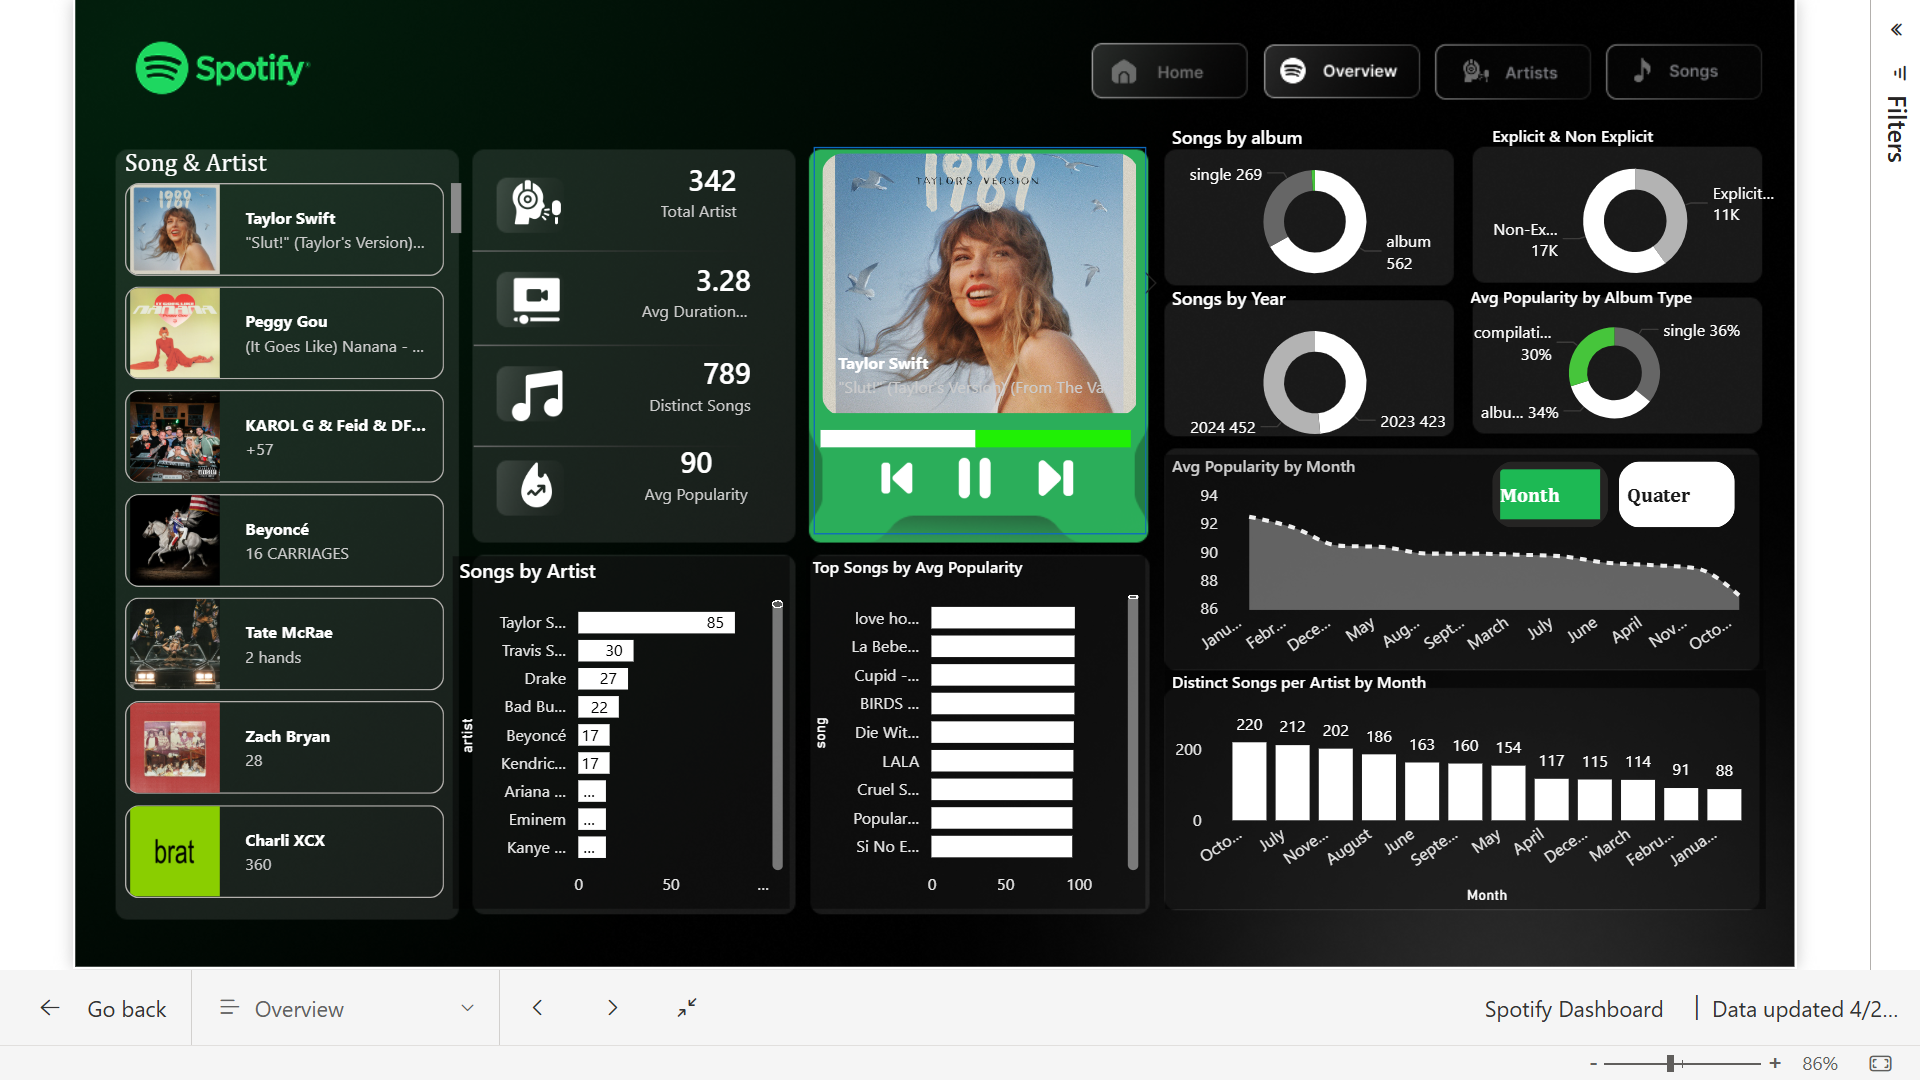

This screenshot's page, from the dashboard's own definition file:
{"tool":"powerbi","page":{"name":"Overview","canvas":[1280,720],"ordinal":1},"visuals":[{"type":"clusteredBarChart","title":"Songs by Artist","fields":{"Category":["Top-50-world.artist"],"Y":["_measure.Distinct Songs"]},"box":[281.9,412.9,250.4,262],"z":0},{"type":"clusteredBarChart","title":"Top Songs by Avg Popularity","fields":{"Category":["Top-50-world.song"],"Y":["Avg(Top-50-world.popularity)"]},"box":[543.9,412.9,252,262],"z":1000},{"type":"areaChart","fields":{"Category":["Top-50-world.Month"],"Y":["_measure.Avg Popularity"]},"box":[810.8,338.3,444.4,159.2],"z":2000},{"type":"advancedSlicerVisual","fields":{"Values":["Slicer_option.Slicer_option"]},"box":[1049.6,338.3,190.7,59.7],"z":3000},{"type":"donutChart","title":" Songs by album","fields":{"Category":["Top-50-world.album_type"],"Y":["_measure.Distinct Songs"]},"box":[810.8,92.9,222.2,126],"z":4000},{"type":"donutChart","title":"Explicit & Non Explicit","fields":{"Y":["_measure.Explicit Songs","_measure.Non-Explicit Songs"]},"box":[1049.6,92.9,222.2,126],"z":5000},{"type":"donutChart","title":" Songs by Year","fields":{"Y":["_measure.Distinct Songs"],"Category":["Top-50-world.date.Variation.Date Hierarchy.Year"]},"box":[810.8,212.2,222.2,126],"z":6000},{"type":"donutChart","title":"Avg Popularity by Album Type","fields":{"Category":["Top-50-world.album_type"],"Y":["_measure.Avg Popularity"]},"box":[1033,212.2,223.8,112.8],"z":7000},{"type":"clusteredColumnChart","fields":{"Category":["Top-50-world.Month"],"Y":["_measure.Distinct Songs per Artist"]},"box":[810.8,497.4,446,177.4],"z":8000},{"type":"cardVisual","fields":{"Data":["_measure.Avg Duration Minutes"]},"box":[393,179.1,139.3,89.5],"z":9000},{"type":"cardVisual","fields":{"Data":["_measure.Avg Popularity"]},"box":[393,315,139.3,89.5],"z":10000},{"type":"cardVisual","fields":{"Data":["Count(Top-50-world.artist)"]},"box":[383,104.5,139.3,89.5],"z":11000},{"type":"cardVisual","fields":{"Data":["_measure.Distinct Songs"]},"box":[393,248.7,139.3,89.5],"z":12000},{"type":"image","box":[315.6,343.3,67.8,33.3],"z":13000},{"type":"image","box":[315.6,274.4,57.8,37.8],"z":14000},{"type":"image","box":[315.6,203.3,57.8,41.1],"z":15000},{"type":"image","box":[315.6,132.2,57.8,35.6],"z":16000},{"type":"advancedSlicerVisual","title":"Song & Artist","fields":{"Values":["Top-50-world.song"]},"box":[530.6,107.8,285.2,205.6],"z":17000},{"type":"advancedSlicerVisual","title":"Song & Artist","fields":{"Values":["Top-50-world.song"]},"box":[33.2,109.4,260.3,563.8],"z":18000},{"type":"hundredPercentStackedBarChart","fields":{"Y":["_measure.Avg Popularity Explicit","Avg(Top-50-world.popularity)"]},"box":[550.5,288.5,240.4,66.3],"z":19000},{"type":"image","box":[650,339.9,39.8,29.8],"z":20000},{"type":"image","box":[598.6,339.9,26.5,29.8],"z":21000},{"type":"image","box":[709.7,339.9,39.8,29.8],"z":22000},{"type":"shape","box":[543.9,104.5,247.1,300.1],"z":23000},{"type":"actionButton","box":[749.5,34.8,109.4,33.2],"z":24000},{"type":"actionButton","box":[863.9,29.8,116.1,41.5],"z":25000},{"type":"actionButton","box":[1006.5,29.8,97.8,41.5],"z":26000},{"type":"actionButton","box":[1124.2,34.8,116.1,44.8],"z":27000}]}

Visuals, with their boxes on the page's 1280x720 design canvas (x1, y1, x2, y2). These are canvas units, not pixel positions in the 1920x1080 screenshot, which may show the page scaled, cropped or inside an application window:
"Songs by Artist" clusteredBarChart: crop(282, 413, 532, 675)
"Top Songs by Avg Popularity" clusteredBarChart: crop(544, 413, 796, 675)
areaChart - Top-50-world.Month x _measure.Avg Popularity: crop(811, 338, 1255, 498)
advancedSlicerVisual - Slicer_option.Slicer_option: crop(1050, 338, 1240, 398)
" Songs by album" donutChart: crop(811, 93, 1033, 219)
"Explicit & Non Explicit" donutChart: crop(1050, 93, 1272, 219)
" Songs by Year" donutChart: crop(811, 212, 1033, 338)
"Avg Popularity by Album Type" donutChart: crop(1033, 212, 1257, 325)
clusteredColumnChart - Top-50-world.Month x _measure.Distinct Songs per Artist: crop(811, 497, 1257, 675)
cardVisual - _measure.Avg Duration Minutes: crop(393, 179, 532, 269)
cardVisual - _measure.Avg Popularity: crop(393, 315, 532, 404)
cardVisual - Count(Top-50-world.artist): crop(383, 104, 522, 194)
cardVisual - _measure.Distinct Songs: crop(393, 249, 532, 338)
image: crop(316, 343, 383, 377)
image: crop(316, 274, 373, 312)
image: crop(316, 203, 373, 244)
image: crop(316, 132, 373, 168)
"Song & Artist" advancedSlicerVisual: crop(531, 108, 816, 313)
"Song & Artist" advancedSlicerVisual: crop(33, 109, 294, 673)
hundredPercentStackedBarChart - _measure.Avg Popularity Explicit x Avg(Top-50-world.popularity): crop(550, 288, 791, 355)
image: crop(650, 340, 690, 370)
image: crop(599, 340, 625, 370)
image: crop(710, 340, 750, 370)
shape: crop(544, 104, 791, 405)
actionButton: crop(750, 35, 859, 68)
actionButton: crop(864, 30, 980, 71)
actionButton: crop(1006, 30, 1104, 71)
actionButton: crop(1124, 35, 1240, 80)
